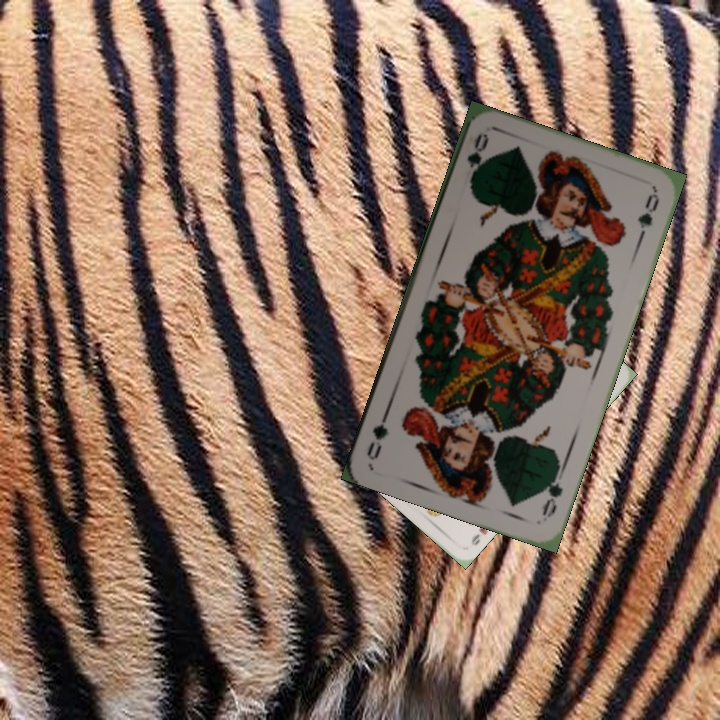GO: (463, 129, 492, 189), (538, 464, 568, 520)
H9: (467, 522, 490, 548)
